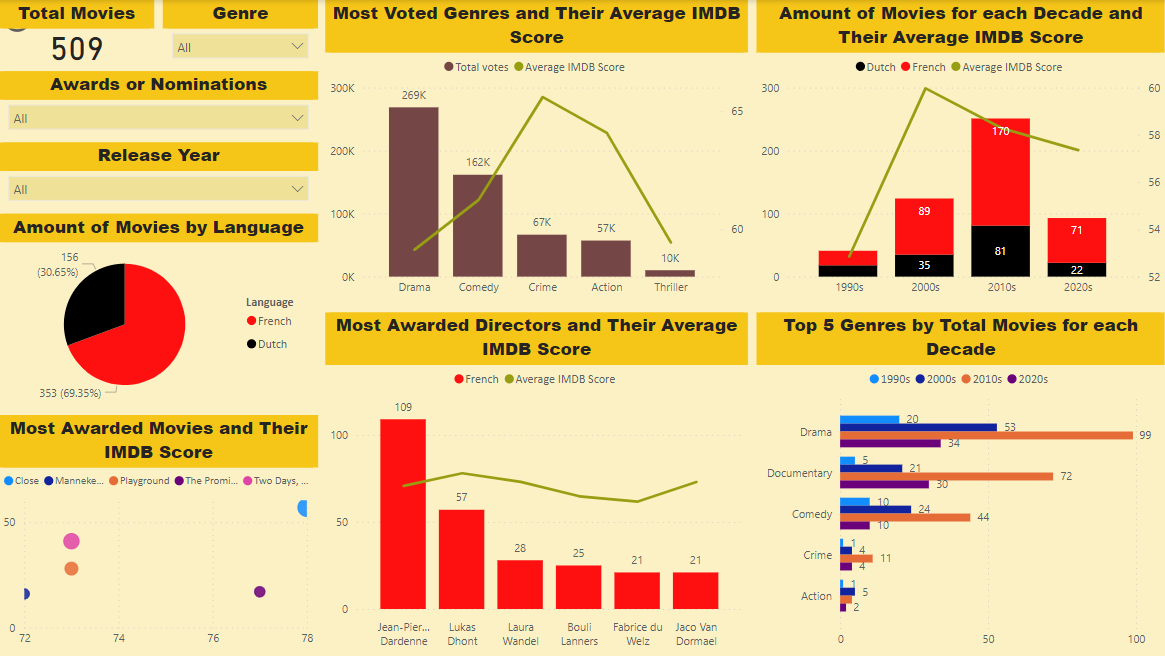

The dashboard page shown, as its layout file describes it:
{"tool":"powerbi","page":{"name":"Page 1","canvas":[1280,720],"ordinal":0},"visuals":[{"type":"slicer","title":"Awards or Nominations","fields":{"Values":["dimMovie.AwardOrNomination"]},"box":[0,78.8,350.2,72.9],"z":0},{"type":"lineStackedColumnComboChart","title":"Amount of Movies for each Decade and Their Average IMDB Score","fields":{"Category":["dimReleaseYear.Decade"],"Y":["MovieDocumentation.imdb_id"],"Series":["dimLanguage.language"],"Y2":["dimMovie.imdb_score"]},"box":[831.6,0,448.4,333.6],"z":1000},{"type":"pieChart","title":"Amount of Movies by Language","fields":{"Category":["dimLanguage.language"],"Y":["MovieDocumentation.imdb_id"]},"box":[0,234.4,350.2,216.9],"z":2000},{"type":"actionButton","box":[0,0,100,40],"z":3000},{"type":"lineStackedColumnComboChart","title":"Most Awarded Directors and Their Average IMDB Score","fields":{"Category":["dimDirector.director_name"],"Y":["dimMovie.awards_won"],"Y2":["dimMovie.imdb_score"],"Series":["dimLanguage.language"]},"box":[357.9,343.3,464,376.4],"z":4000},{"type":"clusteredBarChart","title":"Top 5 Genres by Total  Movies for each Decade","fields":{"Category":["dimGenre.genre"],"Y":["MovieDocumentation.imdb_id"],"Series":["dimReleaseYear.Decade"]},"box":[831.6,343.3,448.4,376.4],"z":5000},{"type":"slicer","title":"Release Year","fields":{"Values":["dimReleaseYear.Decade Hierarchy.Decade","dimReleaseYear.Decade Hierarchy.release_year"]},"box":[0,156.6,350.2,73.9],"z":6000},{"type":"scatterChart","title":"Most Awarded Movies and Their IMDB Score","fields":{"X":["dimMovie.imdb_score"],"Y":["dimMovie.awards_won"],"Series":["dimMovie.movie_name"],"Size":["dimMovie.awards_won max per movie_name"]},"box":[0,456.2,350.2,263.6],"z":7000},{"type":"lineStackedColumnComboChart","title":"Most Voted Genres and Their Average IMDB Score","fields":{"Category":["dimGenre.genre"],"Y2":["dimMovie.imdb_score"],"Y":["dimMovie.total_votes"]},"box":[357.9,0,464,333.6],"z":8000},{"type":"slicer","title":"Genre","fields":{"Values":["dimGenre.genre"]},"box":[179.9,0,170.2,72.9],"z":9000},{"type":"card","title":"Total Movies","fields":{"Values":["MovieDocumentation.imdb_id"]},"box":[0,0,170.2,73.9],"z":9001}]}

Visuals, with their boxes in screenshot pixels (x1, y1, x2, y2), scaled from the page's 1280x720 canvas onto the 1165x656 screenshot:
"Awards or Nominations" slicer: <bbox>0, 72, 319, 138</bbox>
"Amount of Movies for each Decade and Their Average IMDB Score" lineStackedColumnComboChart: <bbox>757, 0, 1164, 304</bbox>
"Amount of Movies by Language" pieChart: <bbox>0, 214, 319, 411</bbox>
actionButton: <bbox>0, 0, 91, 36</bbox>
"Most Awarded Directors and Their Average IMDB Score" lineStackedColumnComboChart: <bbox>326, 313, 748, 655</bbox>
"Top 5 Genres by Total  Movies for each Decade" clusteredBarChart: <bbox>757, 313, 1164, 655</bbox>
"Release Year" slicer: <bbox>0, 143, 319, 210</bbox>
"Most Awarded Movies and Their IMDB Score" scatterChart: <bbox>0, 416, 319, 655</bbox>
"Most Voted Genres and Their Average IMDB Score" lineStackedColumnComboChart: <bbox>326, 0, 748, 304</bbox>
"Genre" slicer: <bbox>164, 0, 319, 66</bbox>
"Total Movies" card: <bbox>0, 0, 155, 67</bbox>
